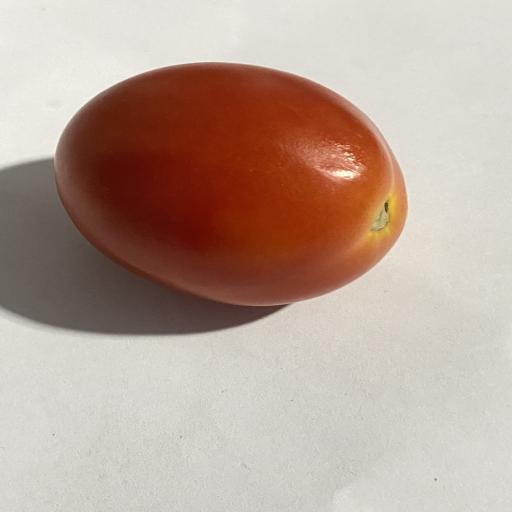ripe: (55, 62, 407, 306)
